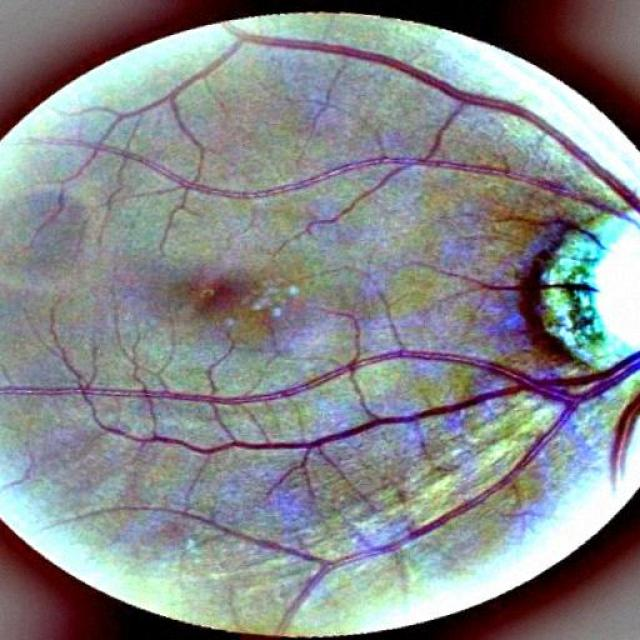Nerves: (24, 340, 639, 630), (120, 31, 632, 211), (115, 154, 609, 218), (184, 265, 270, 332)
Optic Disk: (531, 193, 639, 381)
